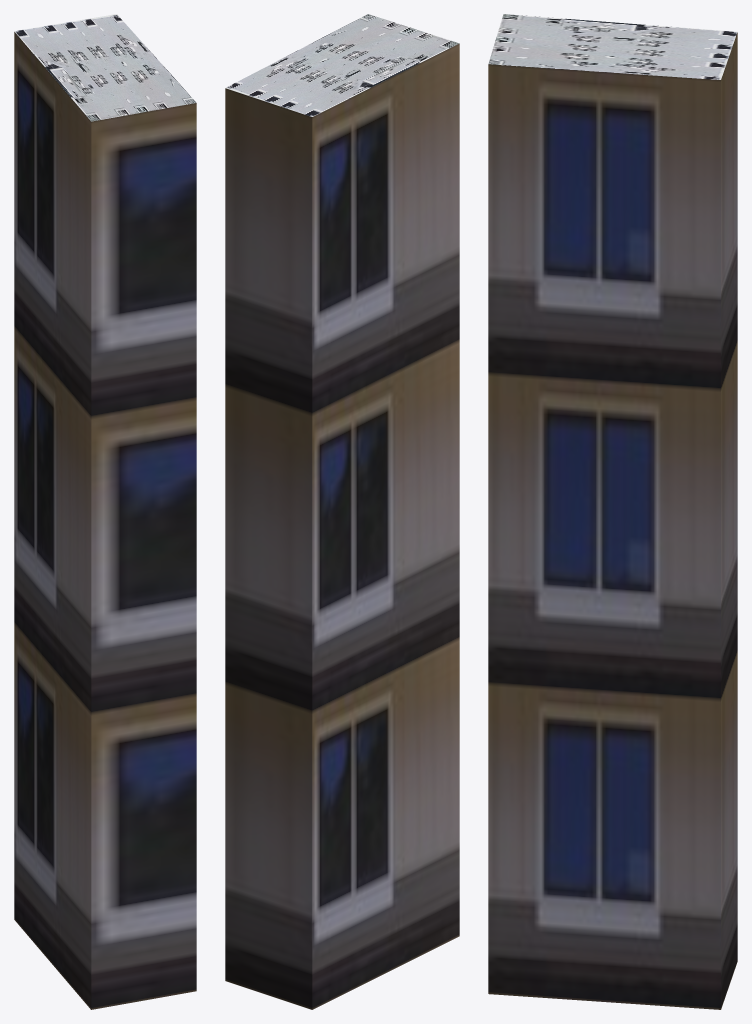
File: ResTex__393.fbx
3 renders of one model, left to right at view 1: azimuth 30°, elevation 25°; view 2: azimuth 150°, elevation 25°; view 3: azimuth 270°, elevation 25°, orthographic. The views are drawn at different scales.
Parts seen in each view (by area): view 1: CityEngineMaterial_5_m, CityEngineMaterial_m; view 2: CityEngineMaterial_5_m, CityEngineMaterial_m; view 3: CityEngineMaterial_5_m, CityEngineMaterial_m.
Part boxes in pixels (x1,y1,x2,y2): CityEngineMaterial_5_m: [14, 32, 196, 1009]; CityEngineMaterial_m: [14, 14, 196, 121]; CityEngineMaterial_5_m: [225, 43, 459, 1009]; CityEngineMaterial_m: [225, 14, 459, 116]; CityEngineMaterial_5_m: [488, 32, 737, 1009]; CityEngineMaterial_m: [488, 14, 737, 79].
Size of the model in its own units: 1.37 by 9 by 2.19.
2 materials, 2 textured.
